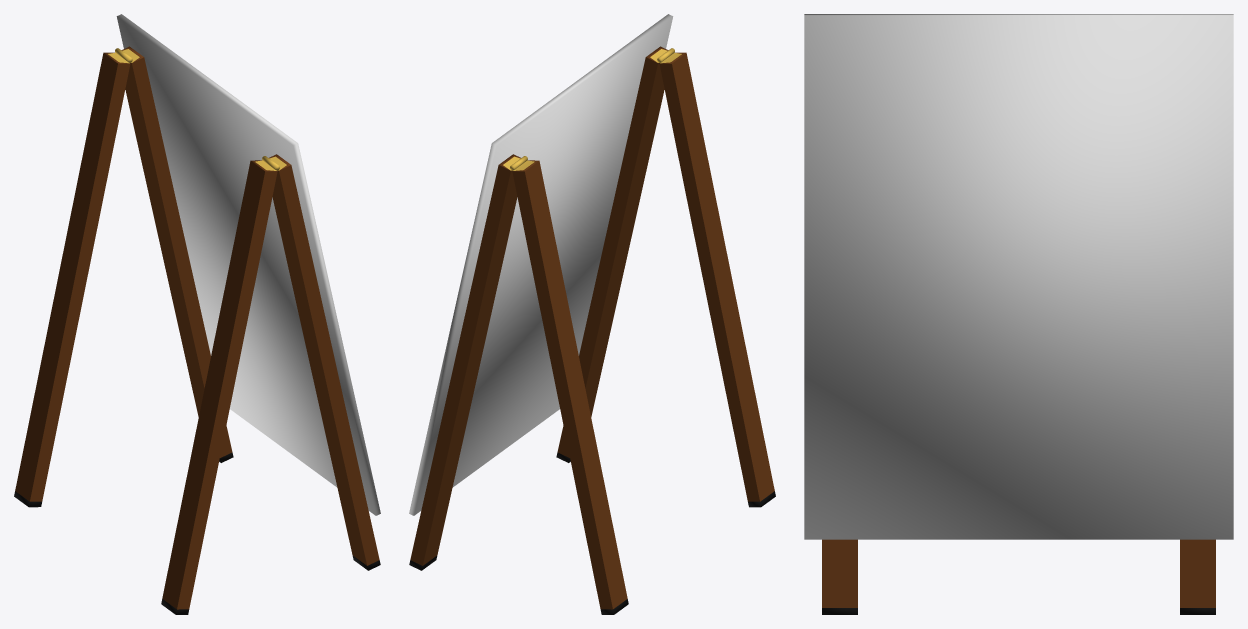
Rendered from cavalete.fbx.
The picture shows the model from 3 angles, left to right: view 1: azimuth 30°, elevation 25°; view 2: azimuth 150°, elevation 25°; view 3: azimuth 270°, elevation 25°; orthographic projection. The views are drawn at different scales.
Visible parts, largest first — view 1: Cube; view 2: Cube; view 3: Cube.
Part boxes in pixels (left/top/right/bottom): Cube: left=14, top=14, right=380, bottom=614; Cube: left=409, top=14, right=775, bottom=614; Cube: left=804, top=14, right=1233, bottom=614.
Bounding box in the file's own units: 80.39 × 169 × 120.
